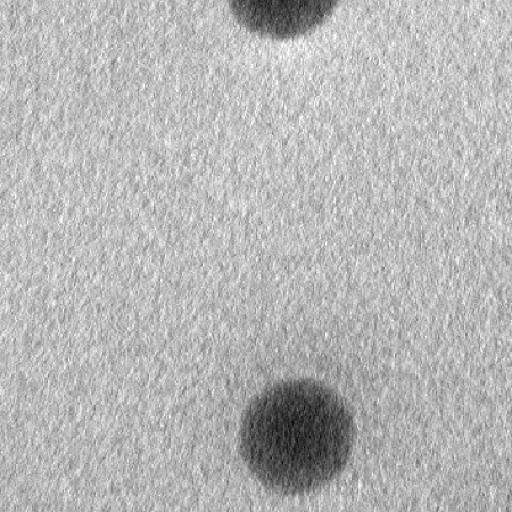Nanoparticles: (237, 377, 356, 491), (226, 0, 346, 39)
